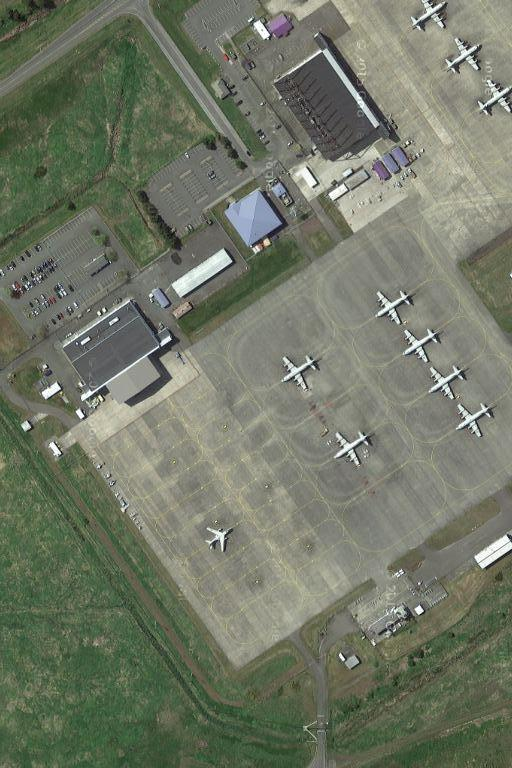P-3C: (440, 36, 485, 80), (450, 396, 493, 442), (370, 285, 413, 329), (330, 425, 371, 471), (399, 323, 442, 366), (425, 360, 468, 402), (473, 73, 511, 119), (278, 352, 318, 394), (407, 1, 451, 38)
P-8A: (200, 525, 236, 557)
